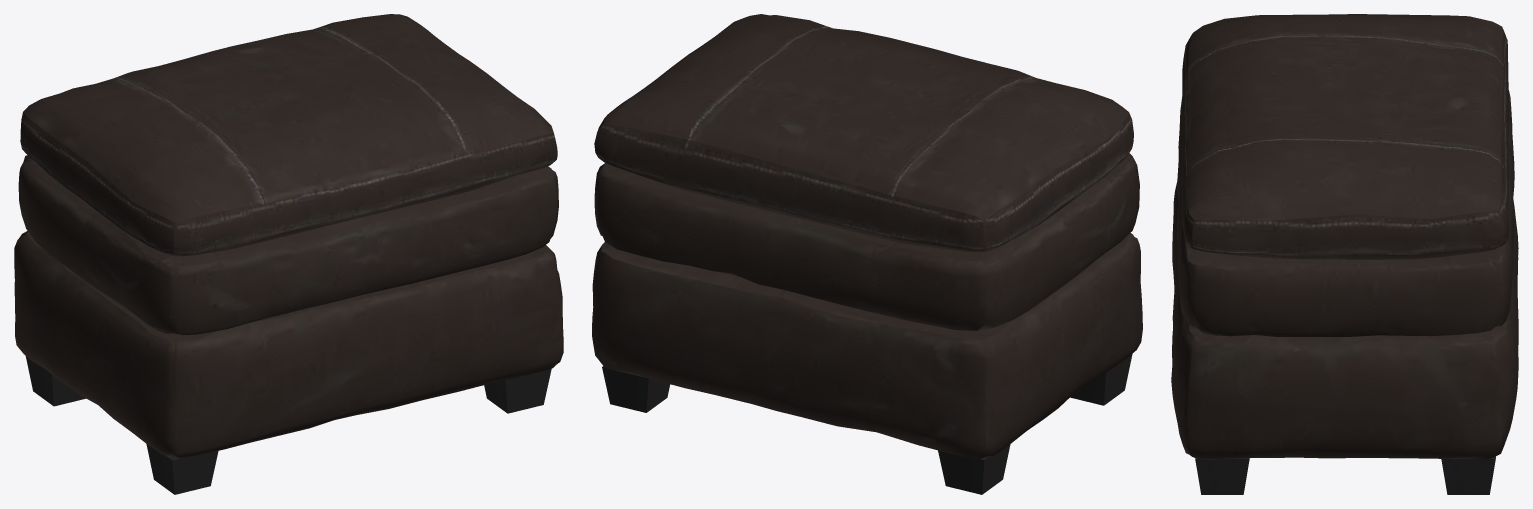
Rendered from Ottoman_01.glb.
3 renders of one model, left to right at view 1: azimuth 30°, elevation 25°; view 2: azimuth 150°, elevation 25°; view 3: azimuth 270°, elevation 25°, orthographic.
Parts seen in each view (by area): view 1: Ottoman_01; view 2: Ottoman_01; view 3: Ottoman_01.
Boxes of the visible parts, x1,y1,x2,y2 form: Ottoman_01: (14,14,563,494); Ottoman_01: (592,14,1142,494); Ottoman_01: (1171,14,1518,494).
Size of the model in its own units: 0.8846 by 0.6243 by 0.6212.
3 materials, 3 textured.
